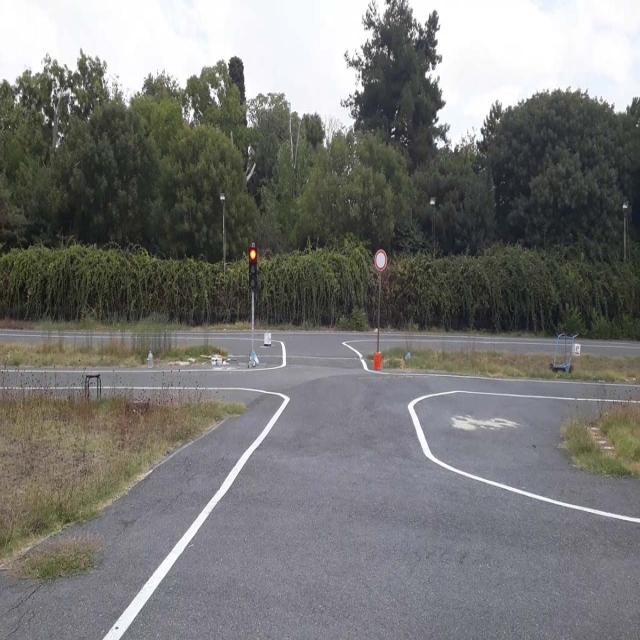kirmizi: (249, 247, 257, 289)
